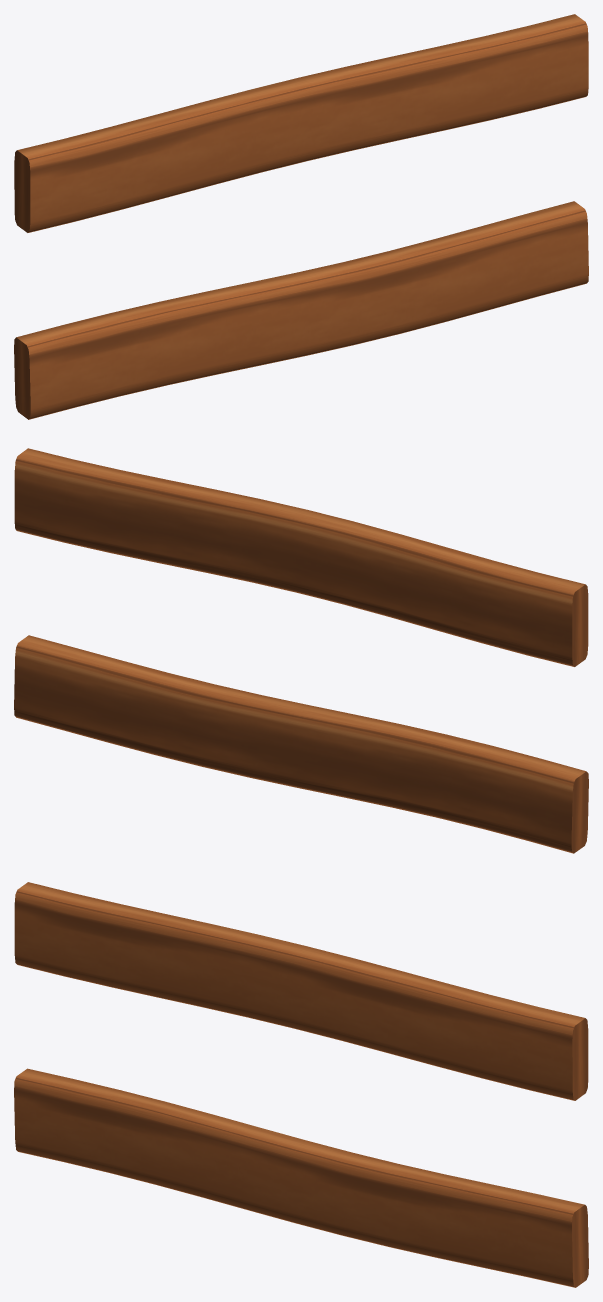
Rendered from fence_rails.glb.
3 views of the same model, one above another, from view 1: azimuth 30°, elevation 25°; view 2: azimuth 150°, elevation 25°; view 3: azimuth 330°, elevation 25° (orthographic).
Parts seen in each view (by area): view 1: model; view 2: model; view 3: model.
Part boxes in pixels (x1=…): model: x1=14, y1=14, x2=588, y2=419; model: x1=14, y1=448, x2=588, y2=853; model: x1=14, y1=882, x2=588, y2=1287.
Size of the model in its own units: 1 by 0.4649 by 0.0544.
Materials: 1 (1 with a texture image).
